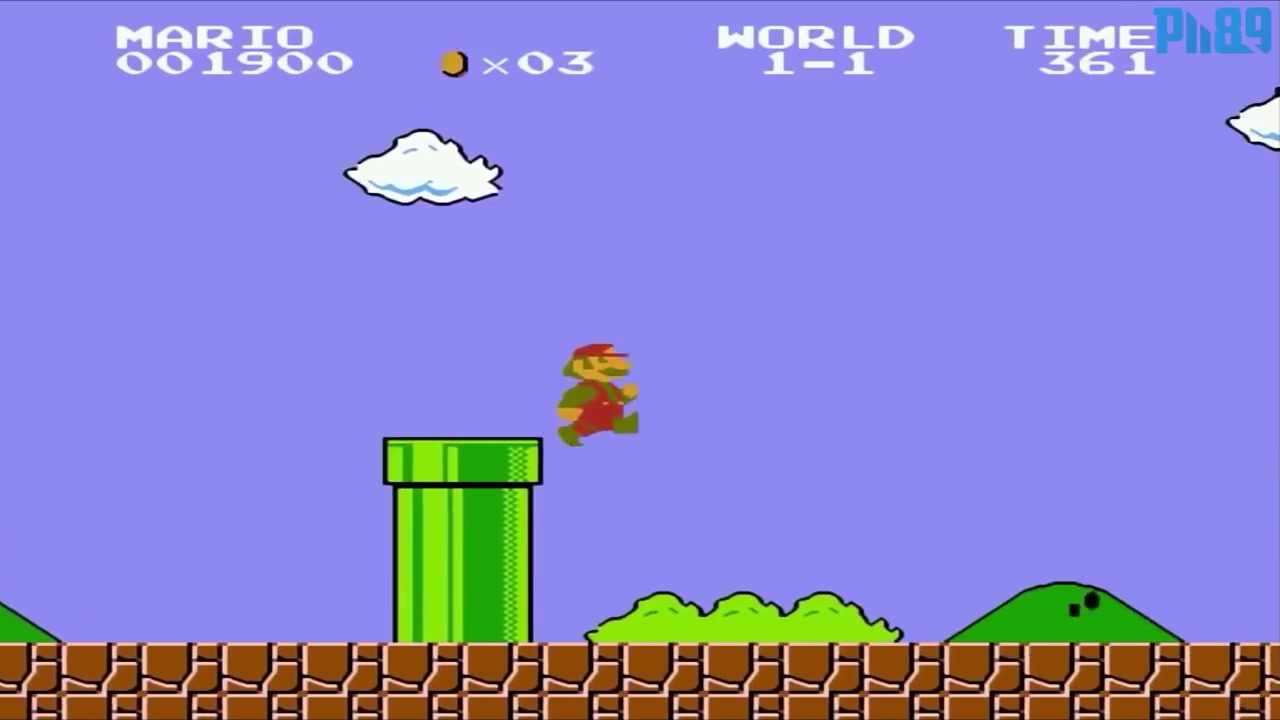mario: (553, 340, 648, 453)
